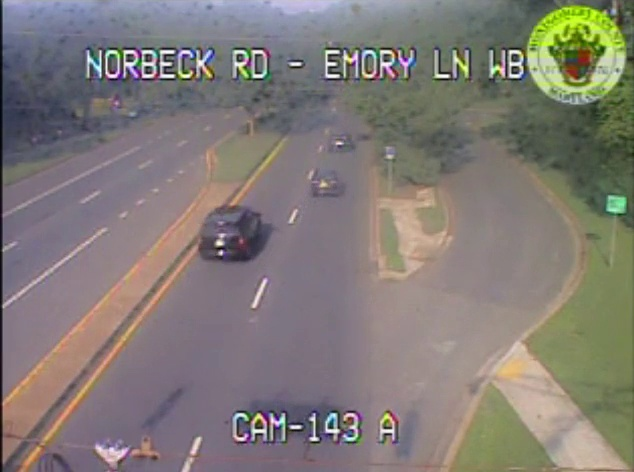car: (200, 207, 260, 261), (310, 170, 337, 196)
